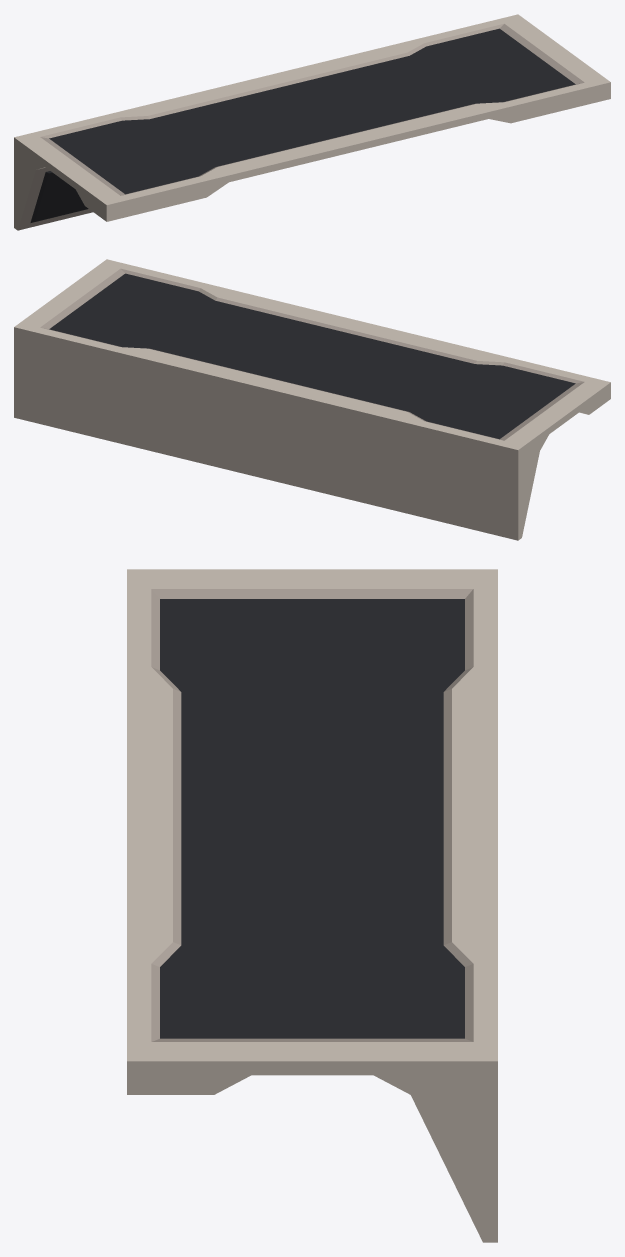
The model's file is SM_Handing_Table_Top_Bathroom.glb.
3 views of the same model, one above another, from view 1: azimuth 30°, elevation 25°; view 2: azimuth 150°, elevation 25°; view 3: azimuth 270°, elevation 25° (orthographic). The views are drawn at different scales.
Visible parts, largest first — view 1: SM_Handing_Table_Top_Bathroom; view 2: SM_Handing_Table_Top_Bathroom; view 3: SM_Handing_Table_Top_Bathroom.
Part boxes in pixels (x1=…): SM_Handing_Table_Top_Bathroom: x1=14, y1=14, x2=610, y2=230; SM_Handing_Table_Top_Bathroom: x1=14, y1=259, x2=610, y2=540; SM_Handing_Table_Top_Bathroom: x1=127, y1=569, x2=497, y2=1242.
Size of the model in its own units: 2 by 0.3433 by 0.6375.
Materials: 2 (1 with a texture image).
